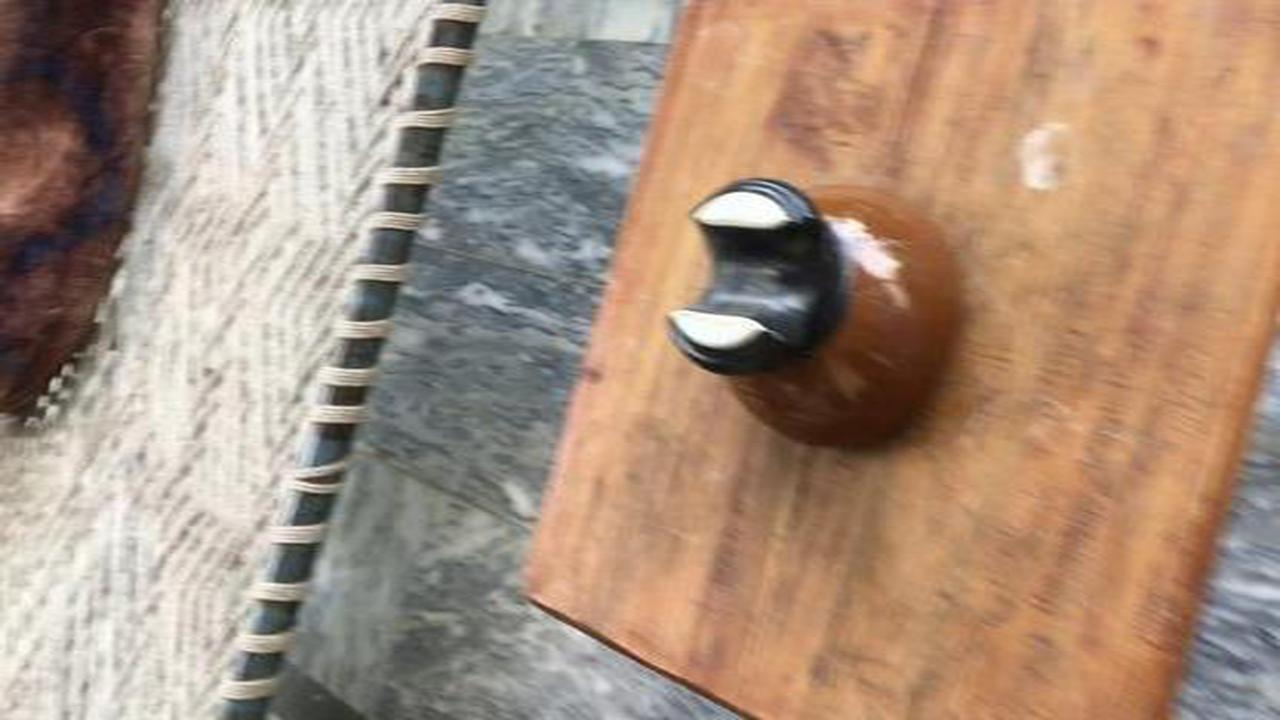insulator_pin: (647, 163, 997, 466)
